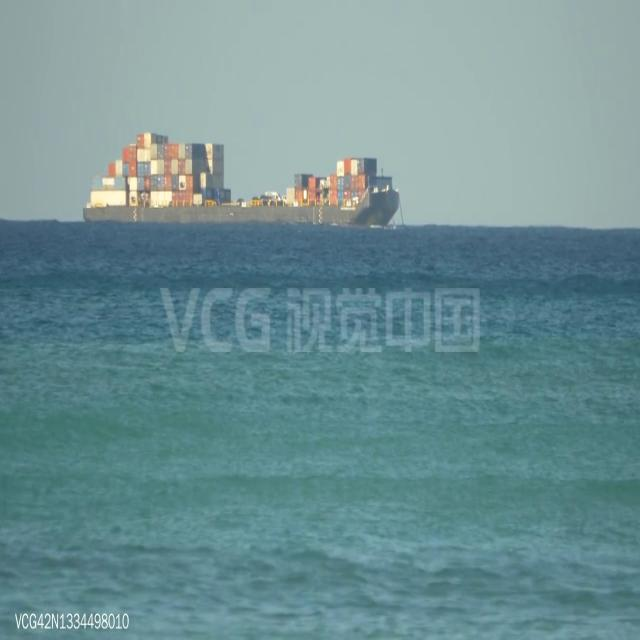cargoship: (78, 112, 403, 239)
